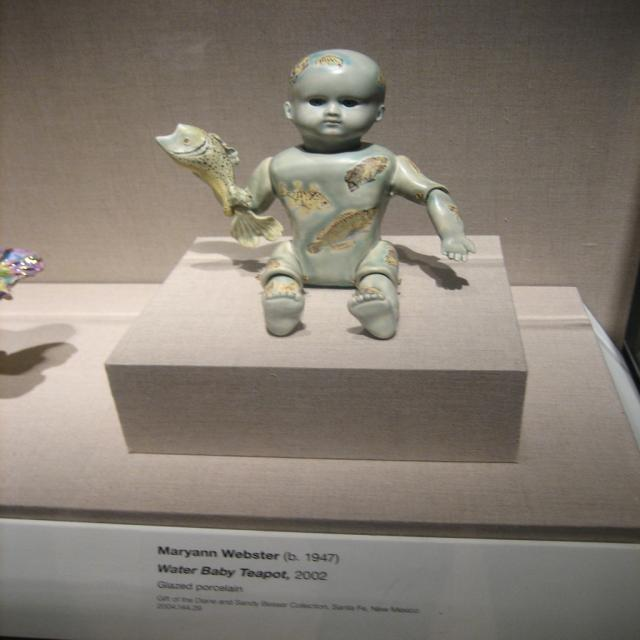Box: (98, 234, 533, 456)
